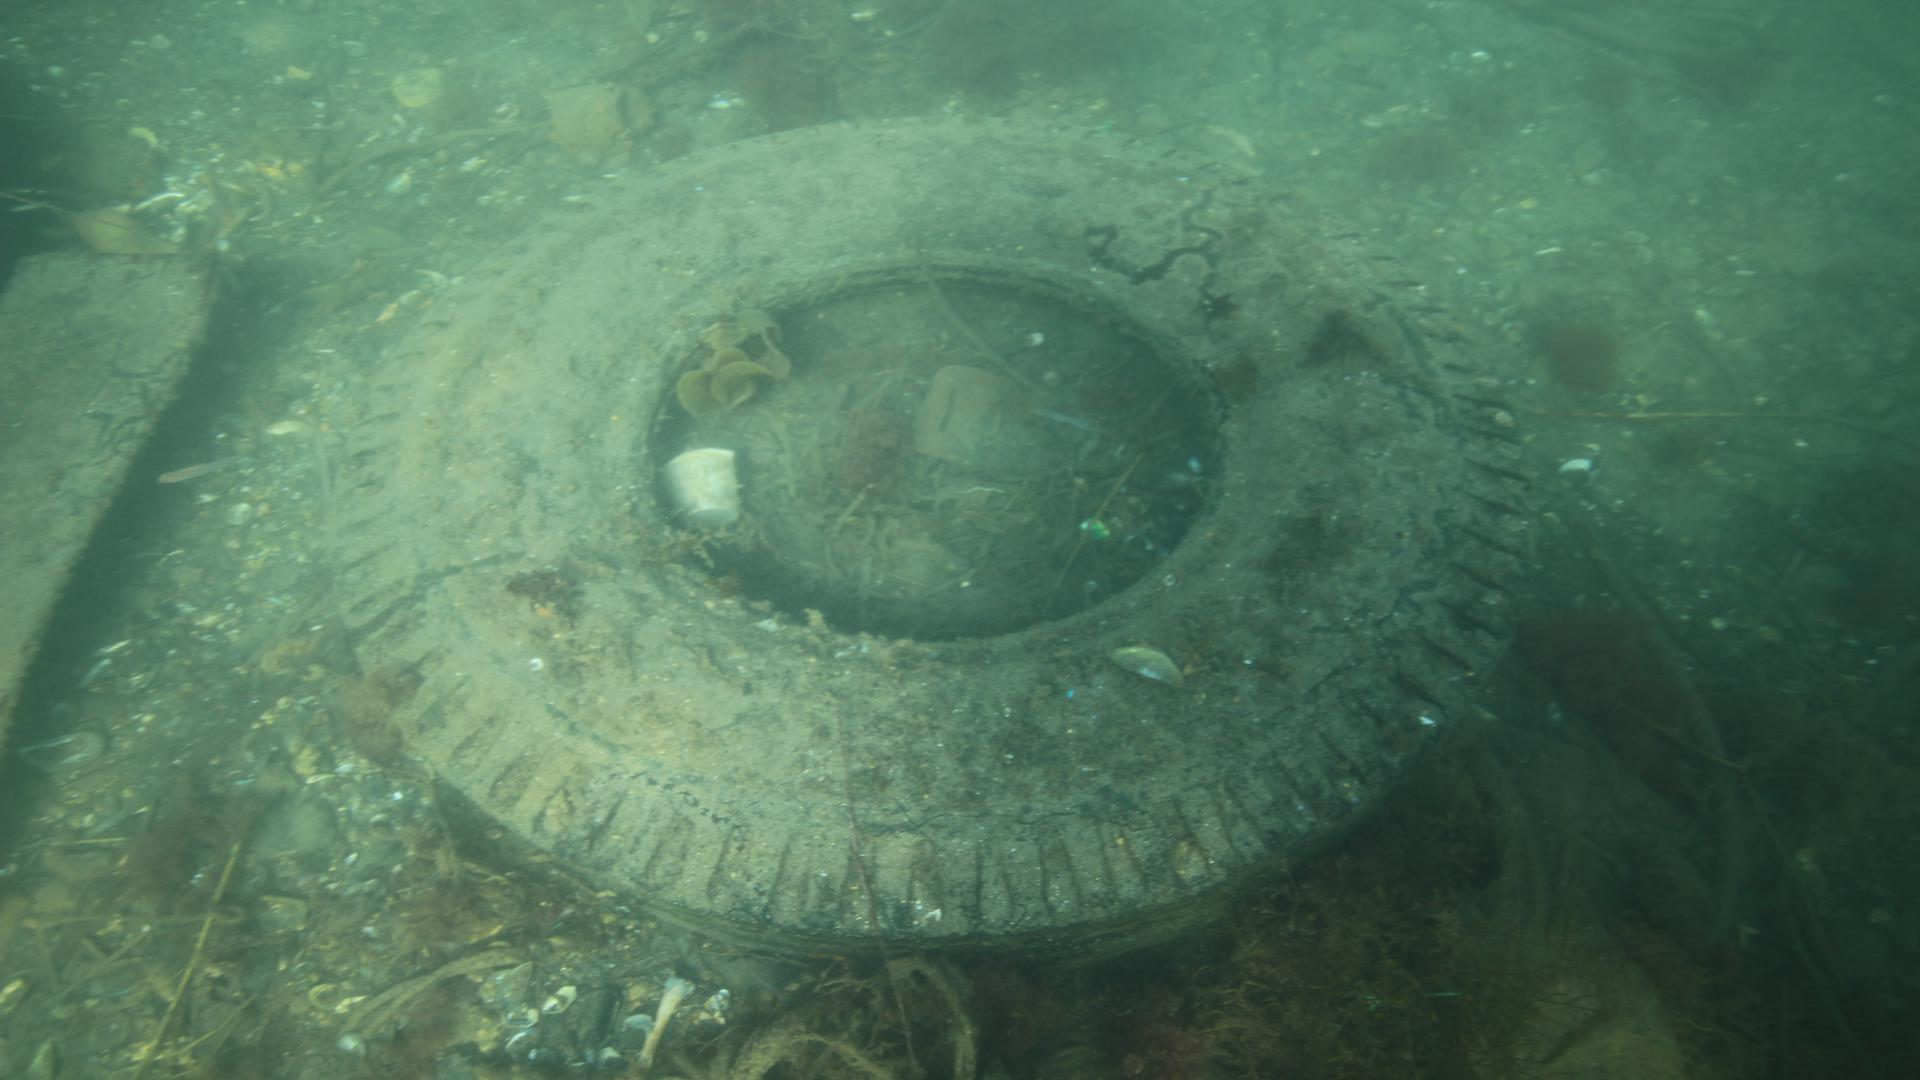tire: (327, 111, 1531, 971)
